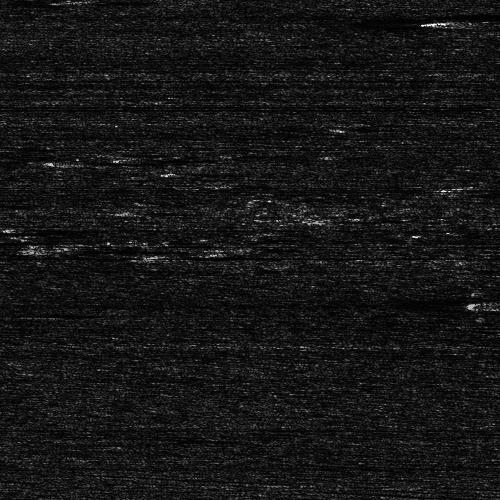object: (0, 225, 68, 238), (112, 252, 195, 261), (394, 17, 487, 24), (432, 182, 500, 191), (465, 300, 500, 309), (36, 0, 99, 2), (0, 312, 12, 317)
shadow: (154, 252, 246, 261), (0, 225, 58, 238), (0, 188, 39, 205), (440, 17, 500, 24), (469, 182, 500, 191), (68, 0, 150, 2), (0, 312, 29, 317)
